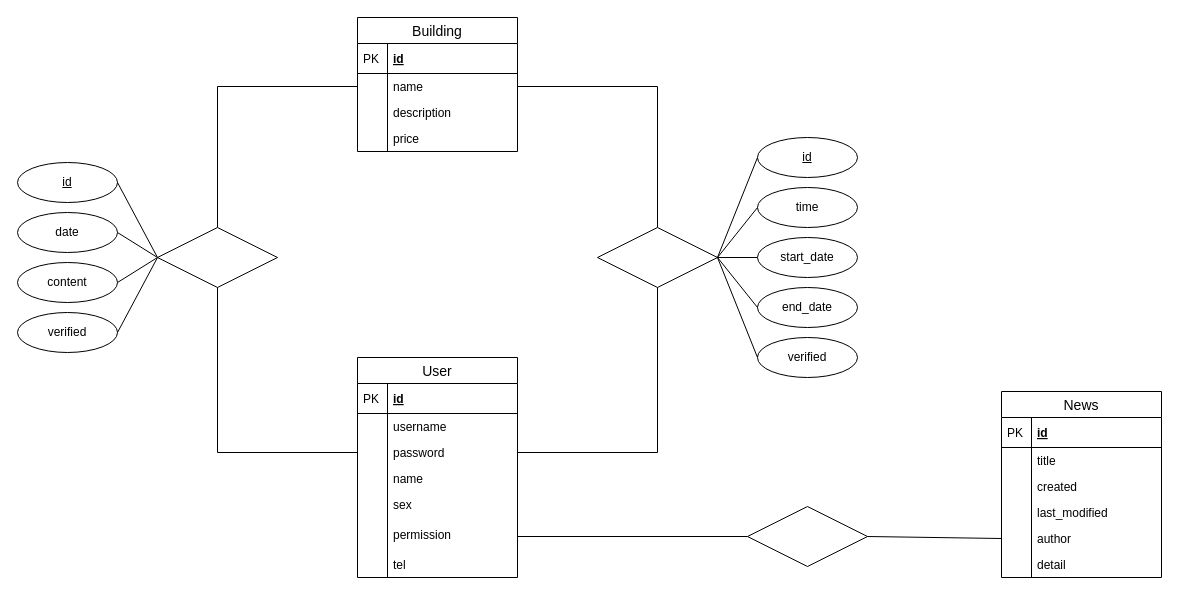
This 1179x598 diagram has some shape labels left out. The shapes that lost their labels are listed below. From the top down, each one's centre as x and y in pixels, then its label:
(217,257): Comment
(657,257): Book
(807,536): Publish
